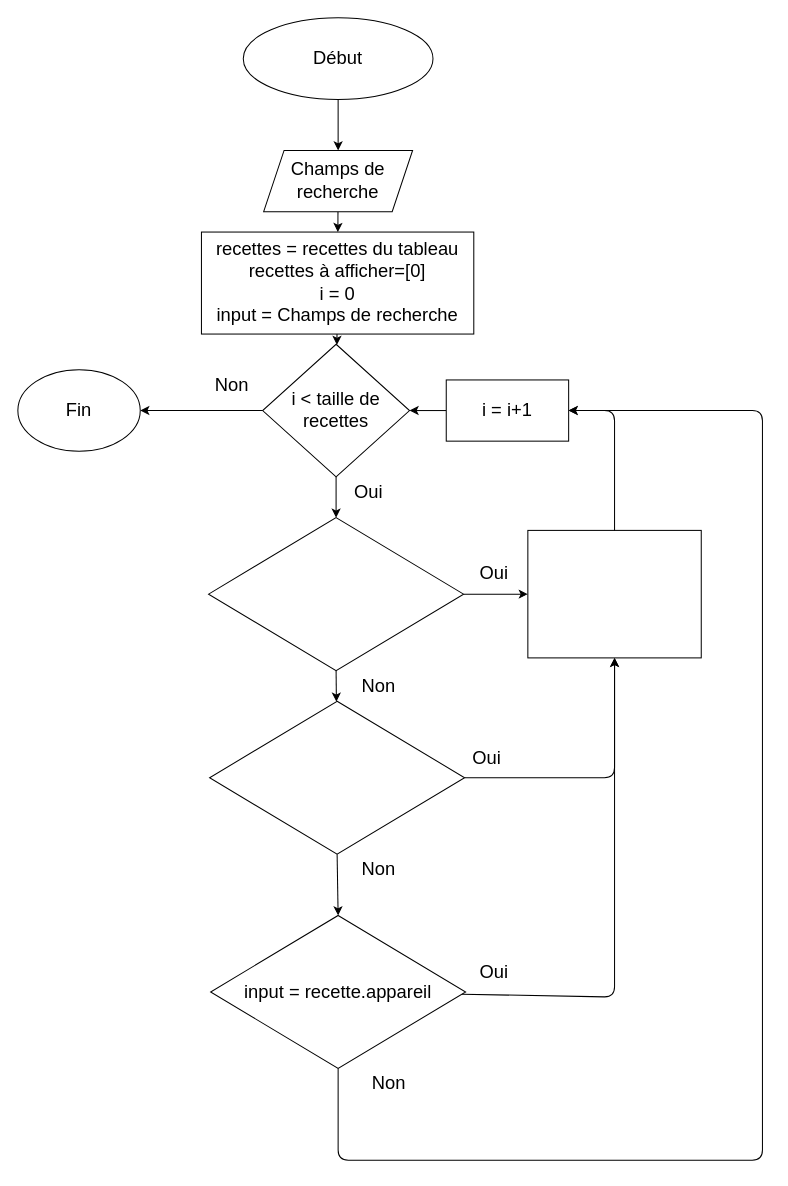
Image size: 788x1186. Some labels were removed from this diagram. The box of each missing label's shape, as (x1, y1, x2, y2) in pixels:
Ajouter la recette à recettes à afficher: (527, 529, 701, 658)
input = recette.ingredient: (209, 700, 465, 854)
input = recette.ustensile: (208, 517, 464, 671)
